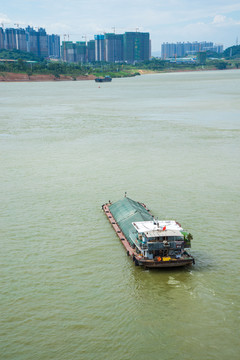boat: (96, 186, 200, 275)
